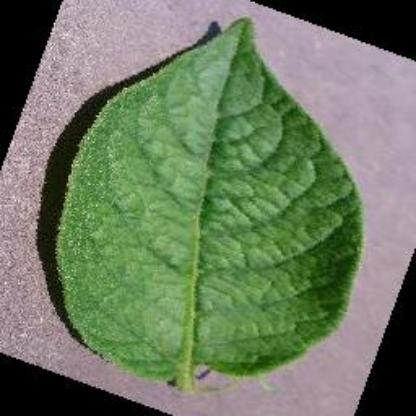Healthy-plant: (43, 13, 371, 399)
